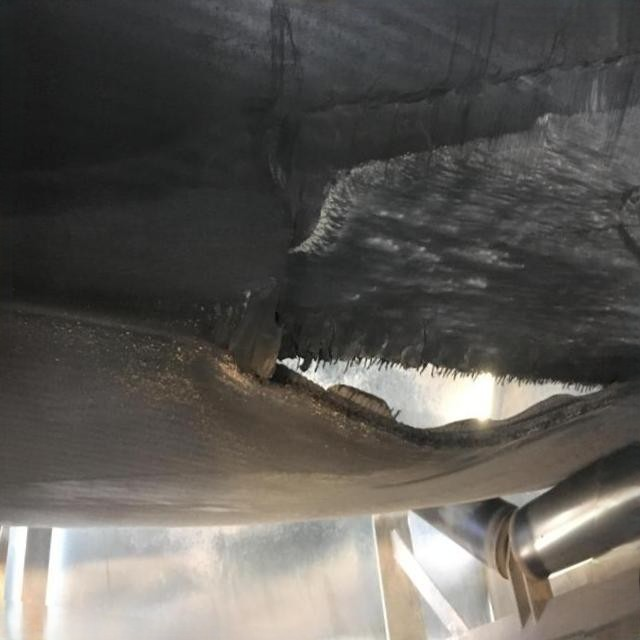Tear: (260, 330, 640, 458)
